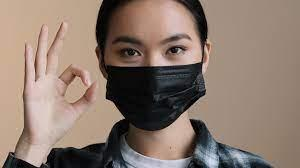mask: (101, 59, 208, 133)
